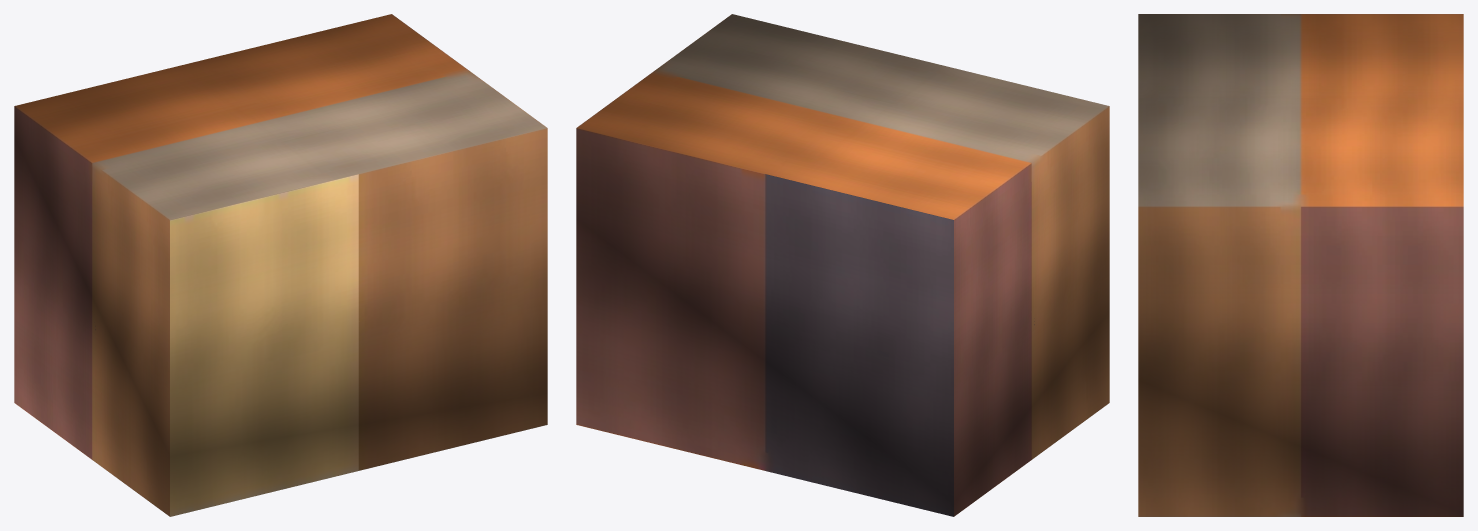
File: rock_volcanic_b.glb
3 views of the same model, side by side, from view 1: azimuth 30°, elevation 25°; view 2: azimuth 150°, elevation 25°; view 3: azimuth 270°, elevation 25° (orthographic). The views are drawn at different scales.
Visible parts, largest first — view 1: col; view 2: col; view 3: col.
Boxes of the visible parts, x1=… form: col: x1=14, y1=14, x2=547, y2=516; col: x1=576, y1=14, x2=1109, y2=516; col: x1=1138, y1=14, x2=1463, y2=516.
Bounding box in the file's own units: 2.34 × 1.76 × 1.67.
1 material, 1 textured.
